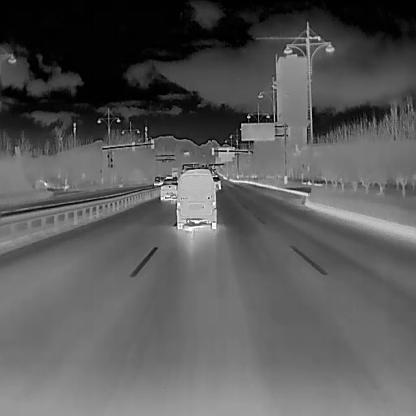car: (176, 165, 217, 229), (160, 179, 176, 202), (212, 177, 221, 190), (153, 176, 162, 185)
